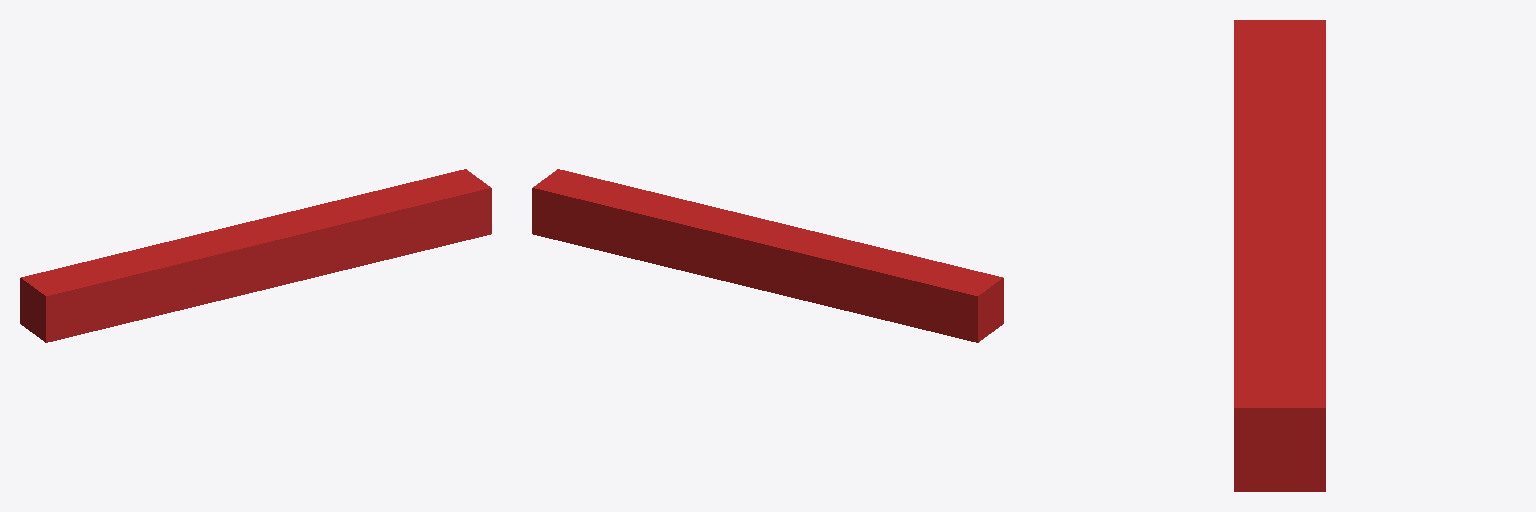
The robot description file, URDF, robot "box":
<?xml version="1.0" encoding="utf-8"?>
<!-- This URDF was automatically created by SolidWorks to URDF Exporter! Originally created by [author] ([email redacted]) 
     Commit Version: 1.6.0-1-g15f4949  Build Version: 1.6.7594.29634
     For more information, please see http://wiki.ros.org/sw_urdf_exporter -->
<robot name="box">
  <link name="base_link">
    <inertial>
      <!-- <origin xyz="0.022886 0 0.017832" rpy="0 0 0" /> -->
      <origin xyz="0.0 0.0 0.0" rpy="0 0 0" />

      <!-- <mass
        value="0.8344" /> -->
      <mass
        value="0.01" />
      <inertia
        ixx="0.00054037"
        ixy="-1.2285E-20"
        ixz="-0.00049637"
        iyy="0.0017352"
        iyz="-9.7971E-21"
        izz="0.0014255" />
    </inertial>
    <visual>
      <!-- <origin xyz="0.08 0.0 0.09" rpy="0 1.57 0" /> -->
      <origin xyz="0.00 0.0 0.00" rpy="0 0 0" />

      <geometry>
        <box size="0.3 0.03 0.03"/>
      </geometry>
      <material name="Front">
        <color rgba="0.8 0.2 0.2 1" />
      </material>
    </visual>
    
    <collision>
      <origin xyz="0.0 0.0 0.0" rpy="0 0 0" />
      <geometry>
        <box size="0.3 0.03 0.03"/>
        <!-- <cylinder radius="0.009" length="0.15" /> -->
      </geometry>
    </collision>
  </link>
</robot>

--- Facts derived from the render (not from the file) ---
The picture shows the robot from 3 angles, left to right: view 1: azimuth 30°, elevation 25°; view 2: azimuth 150°, elevation 25°; view 3: azimuth 270°, elevation 25°; orthographic projection.
Robot: box — 1 links, 0 joints (none); root link base_link; default pose: every joint at zero.
Links seen in each view (by area): view 1: base_link; view 2: base_link; view 3: base_link.
Link boxes in pixels (x1,y1,x2,y2): base_link: (20,169,491,342); base_link: (532,169,1003,342); base_link: (1234,20,1325,491).
Bounding box of the posed robot: 0.3 × 0.03 × 0.03 m (x, y, z).
Geometry: primitives only (box / cylinder / sphere), no mesh files.
